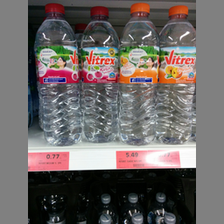water: (34, 4, 80, 146), (119, 3, 159, 146), (79, 6, 119, 144), (157, 5, 195, 144)
